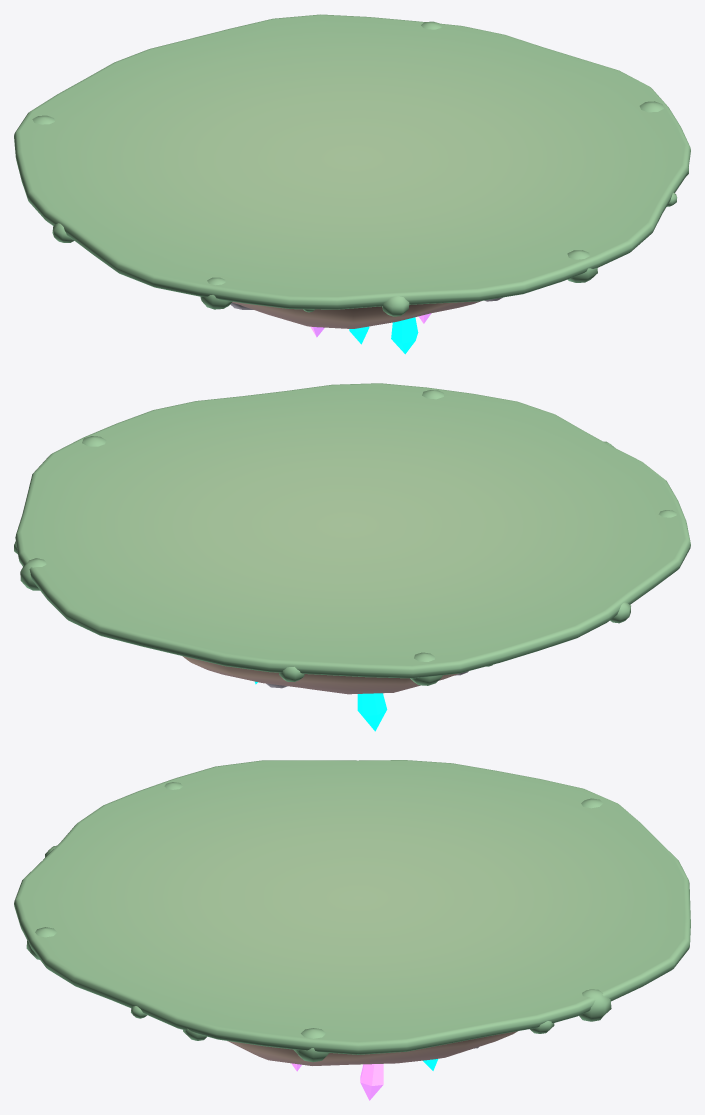
Rendered from islandBig.glb.
The picture shows the model from 3 angles, top to bottom: view 1: azimuth 30°, elevation 25°; view 2: azimuth 150°, elevation 25°; view 3: azimuth 270°, elevation 25°; orthographic projection.
Visible parts, largest first — view 1: Body, Glow_00E5FF; view 2: Body, Glow_00E5FF; view 3: Body, Glow_7B2FF7.
Part boxes in pixels (x1,y1,x2,y2): Body: [14, 14, 690, 328]; Glow_00E5FF: [349, 317, 418, 354]; Body: [14, 383, 690, 694]; Glow_00E5FF: [255, 681, 387, 731]; Body: [14, 760, 690, 1065]; Glow_7B2FF7: [291, 1063, 383, 1100].
Size of the model in its own units: 187 by 49.55 by 186.
